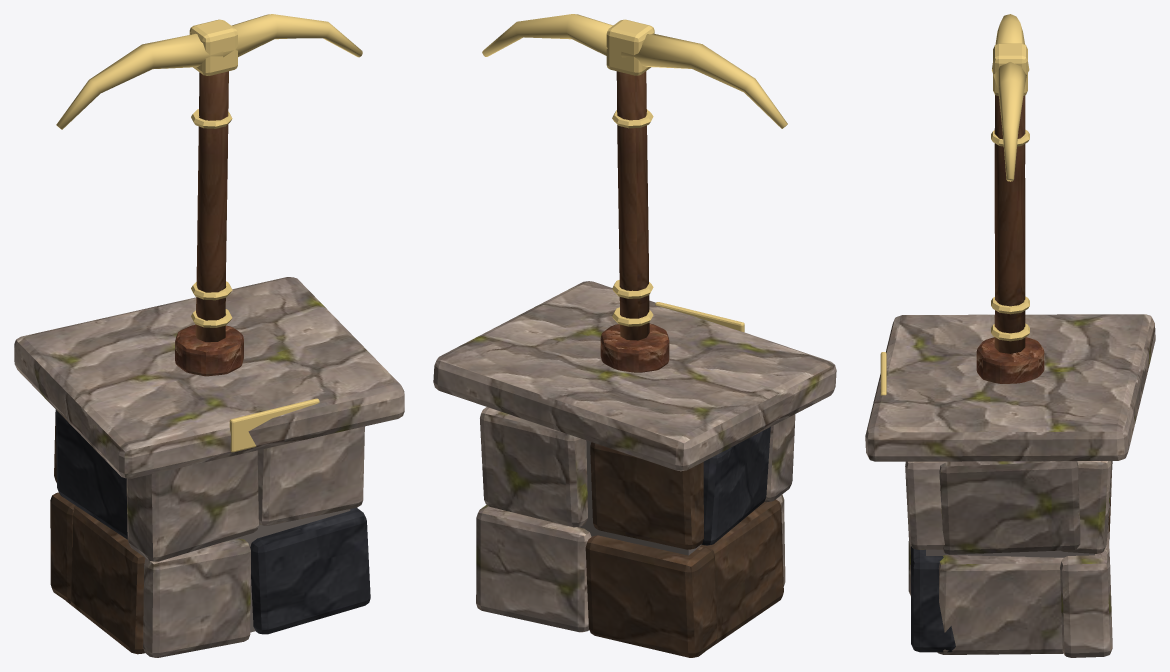
File: golden_pickaxe.glb
3 views of the same model, side by side, from view 1: azimuth 30°, elevation 25°; view 2: azimuth 150°, elevation 25°; view 3: azimuth 270°, elevation 25° (orthographic). The views are drawn at different scales.
Parts seen in each view (by area): view 1: model; view 2: model; view 3: model.
Part boxes in pixels (<box>): model: <box>14,14,404,657</box>; model: <box>433,14,836,657</box>; model: <box>865,14,1155,657</box>.
Bounding box in the file's own units: 0.6901 × 1.24 × 0.584.
Materials: 9 (7 with a texture image).
